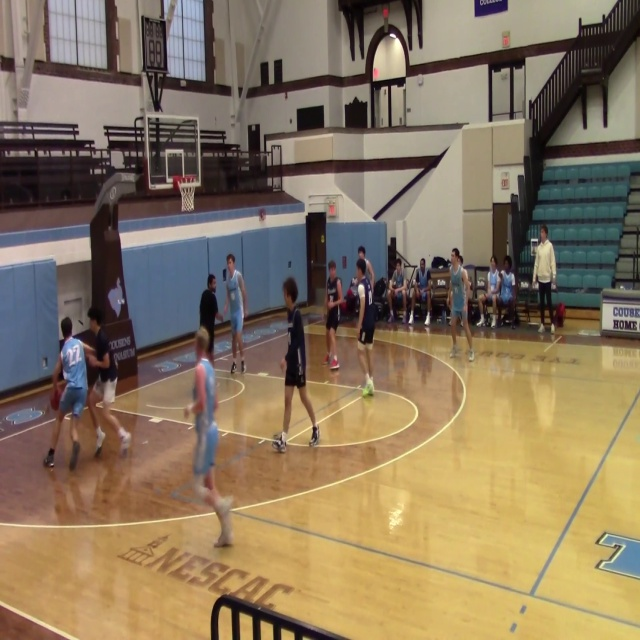Basketball: (49, 381, 66, 410)
